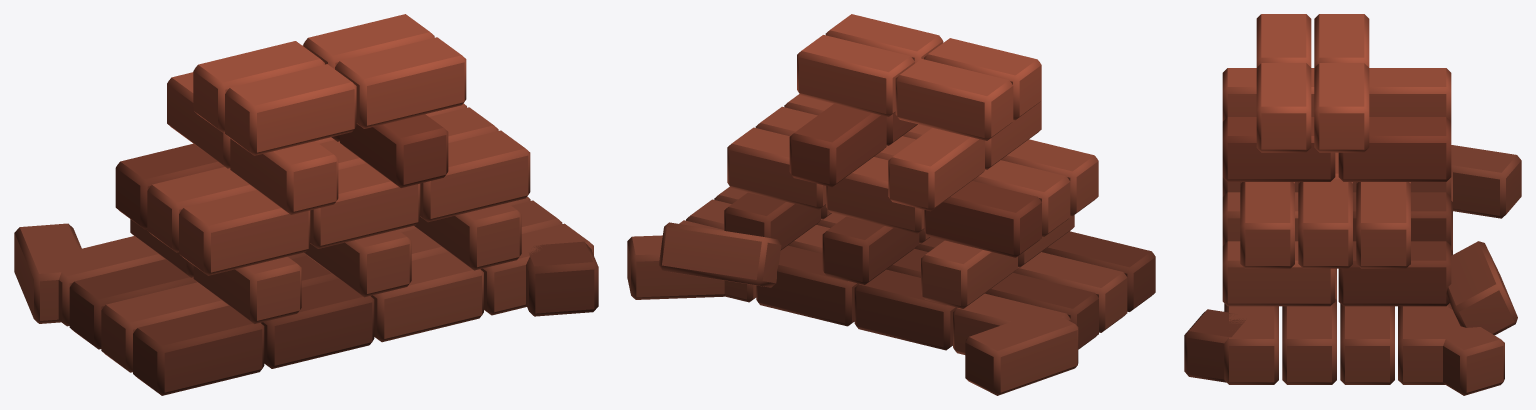
Rendered from 43_tas_briques.fbx.
3 renders of one model, left to right at view 1: azimuth 30°, elevation 25°; view 2: azimuth 150°, elevation 25°; view 3: azimuth 270°, elevation 25°, orthographic. The views are drawn at different scales.
Visible parts, largest first — view 1: Briques; view 2: Briques; view 3: Briques.
Boxes of the visible parts, x1=… form: Briques: x1=14, y1=14, x2=598, y2=395; Briques: x1=627, y1=14, x2=1155, y2=395; Briques: x1=1184, y1=14, x2=1521, y2=395.
Bounding box in the file's own units: 0.84 × 0.42 × 0.56.
1 material, 1 textured.
